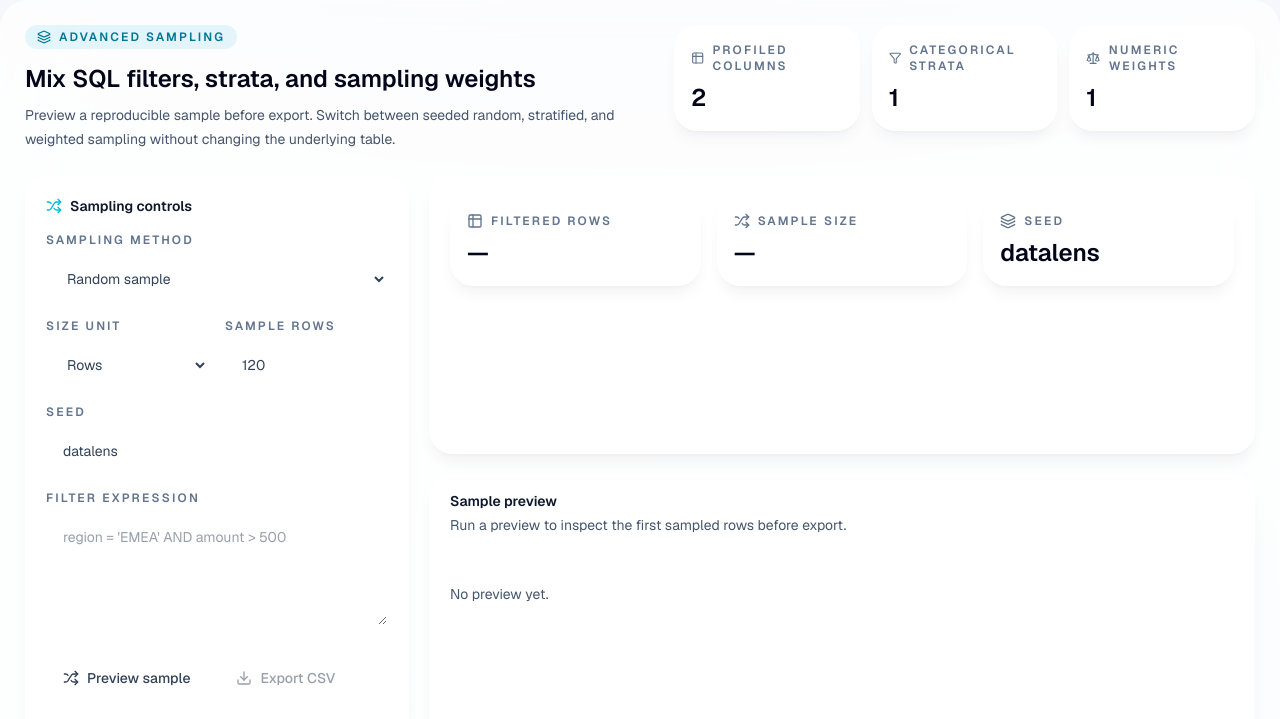
Test case: RowSamplerAdvanced › previews a stratified sample with a filter expression
Step 1. Select "Stratified sample" in the dropdown labelled "Sampling method" → (217, 279), box [46,256,388,302]
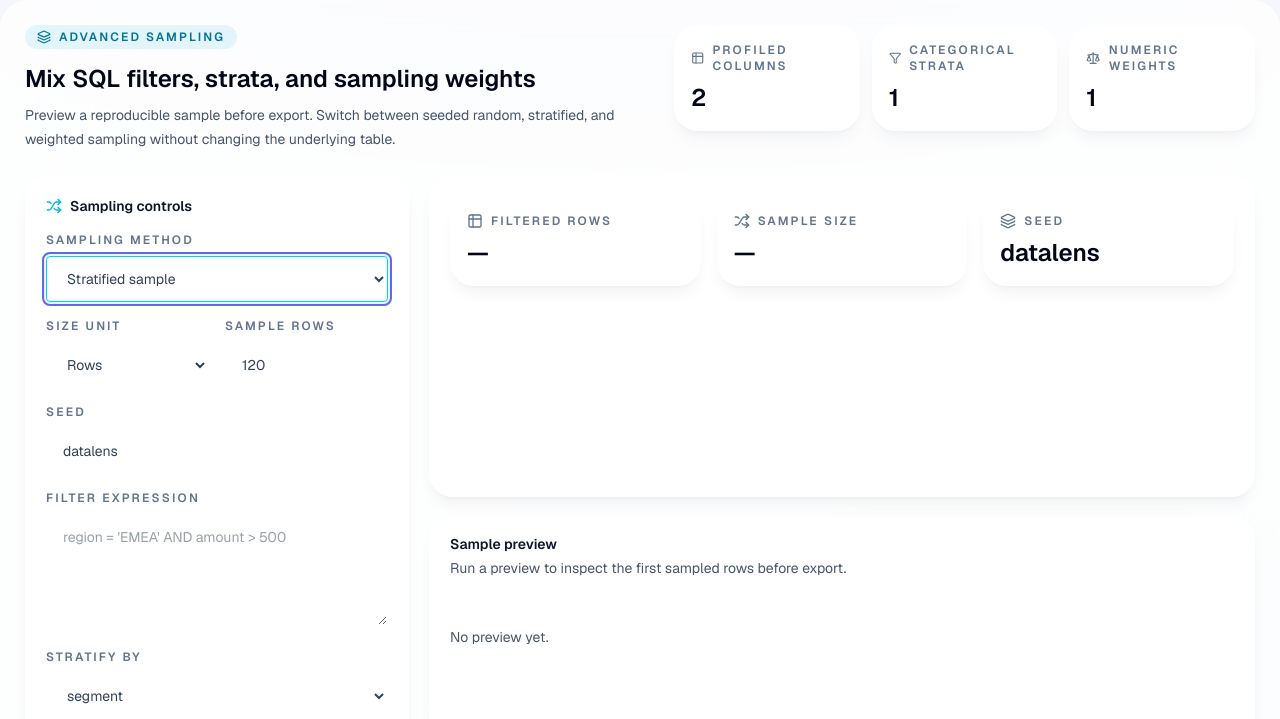
Step 2. Type "status = 'active'" into the text box labelled "Filter expression" → (217, 570), box [46,514,388,626]
(page scrolled)
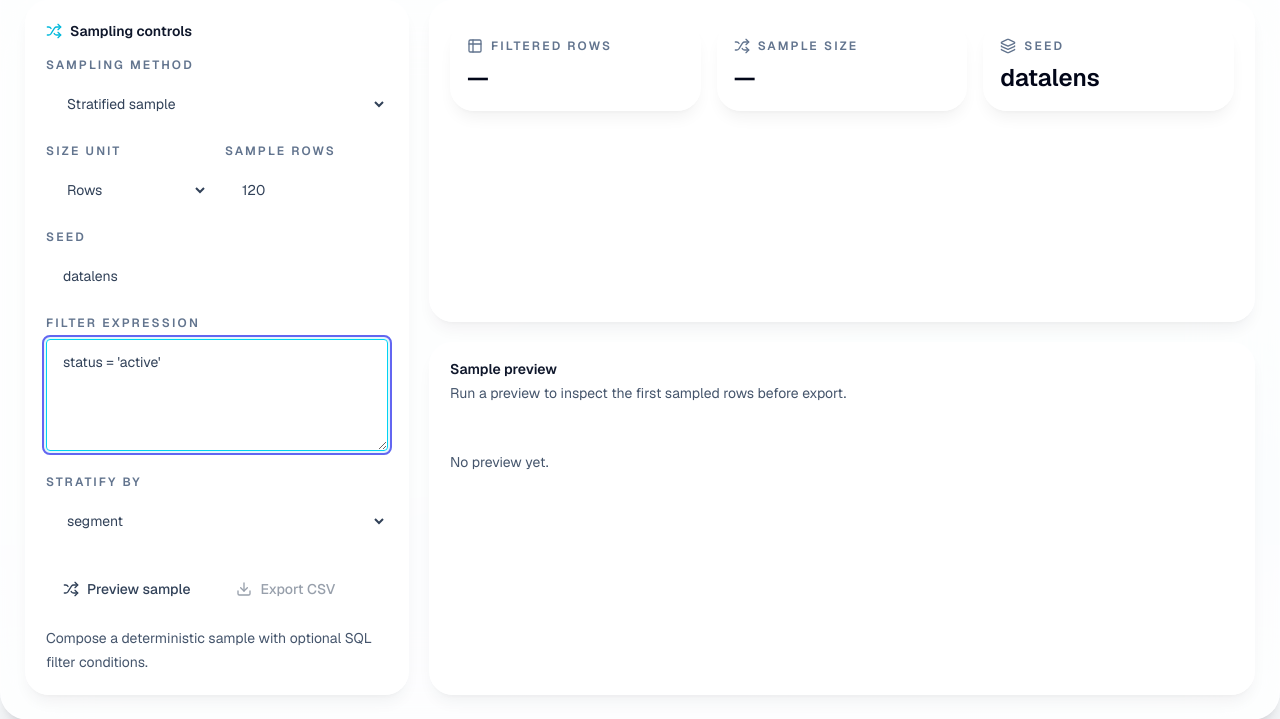
Step 3. Click the button "Preview sample" → (127, 589), box [46,568,208,610]
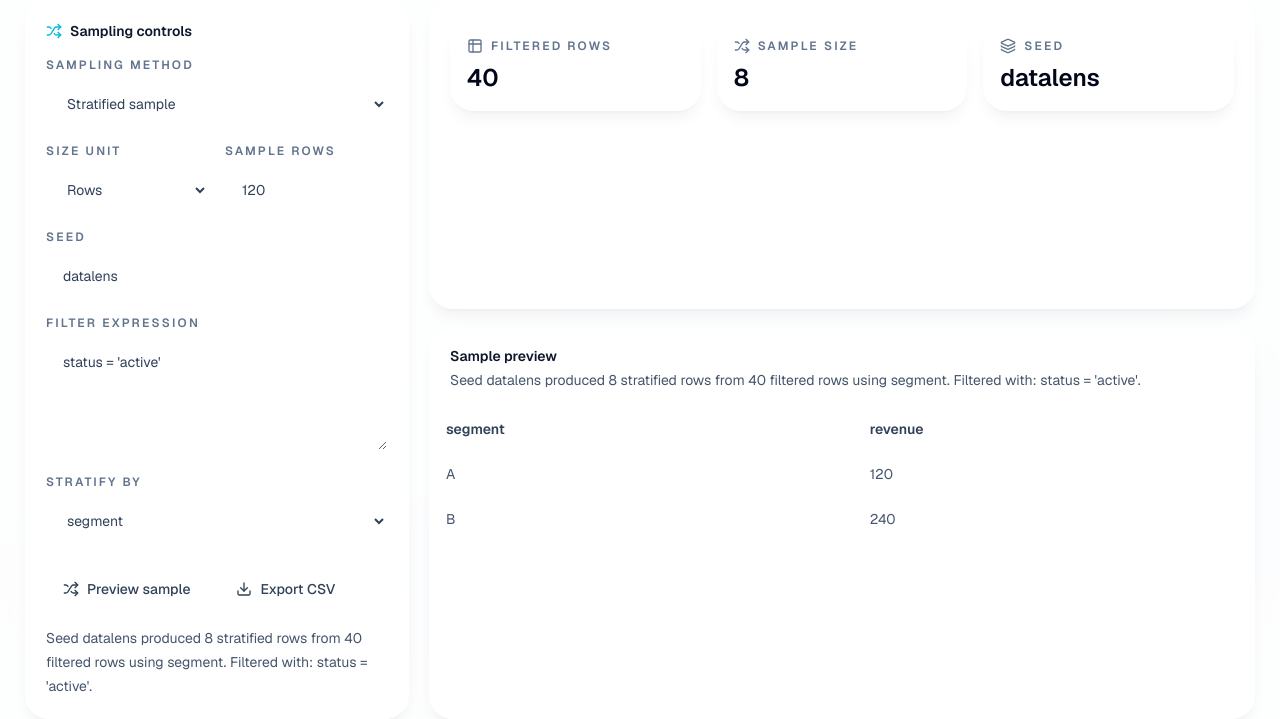
Expected: the text "Seed datalens produced 8 stratified rows from 40 filtered rows using segment. Filtered with: status = 'active'." is shown 2 times, [46,626,388,698]; [450,370,1234,390]
Now the text "A" is shown, box [430,452,854,496]
